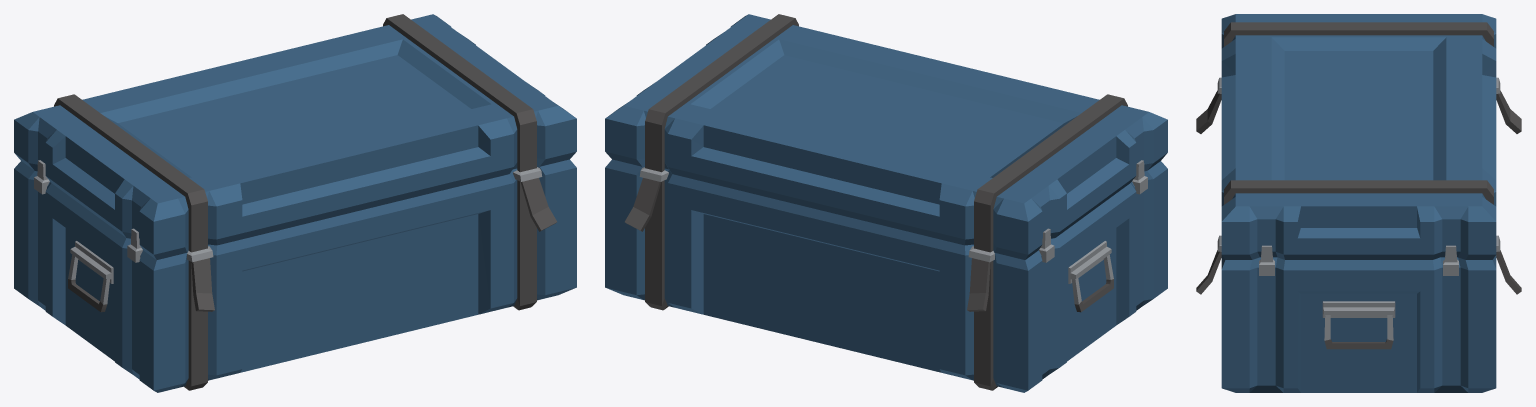
Rendered from SM_Prop_Crate_03.glb.
3 renders of one model, left to right at view 1: azimuth 30°, elevation 25°; view 2: azimuth 150°, elevation 25°; view 3: azimuth 270°, elevation 25°, orthographic.
Parts seen in each view (by area): view 1: SM_Prop_Crate_03; view 2: SM_Prop_Crate_03; view 3: SM_Prop_Crate_03.
Part boxes in pixels (left/top/right/bottom): SM_Prop_Crate_03: left=14, top=14, right=576, bottom=392; SM_Prop_Crate_03: left=605, top=14, right=1167, bottom=392; SM_Prop_Crate_03: left=1196, top=14, right=1521, bottom=392.
Size of the model in its own units: 1.18 by 0.5255 by 0.7967.
1 material, 1 textured.
